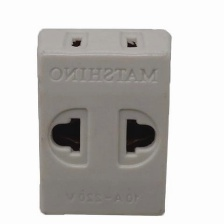three_eye_plug: (35, 24, 175, 217)
